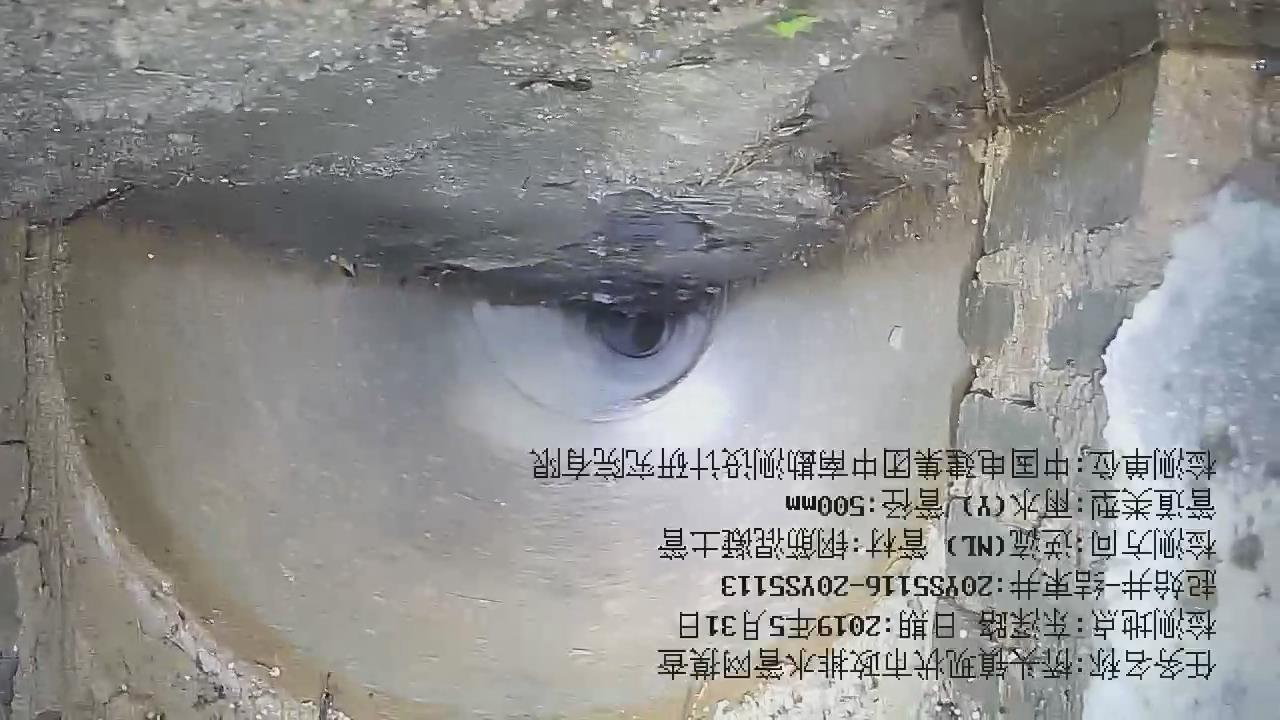CJ: (1, 1, 979, 313)
